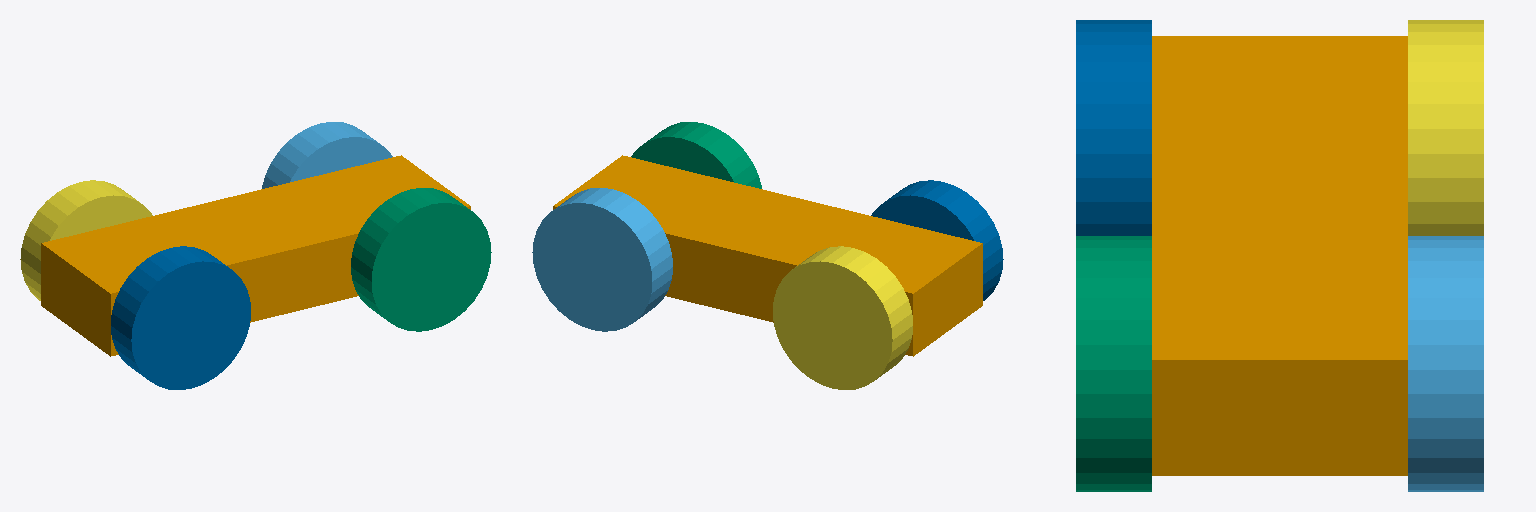
URDF robot description (kinectBot):
<?xml version="1.0"?>
<robot name="kinectBot">

  <!--          -->
  <!--geometries-->
  <!--          -->

  <link name="base_link">
    <visual>
      <geometry>
        <box size="1.5 .5 .25"/>
      </geometry>
      <origin rpy="0 0 0" xyz="0 0 .25"/>
    </visual>
    <collision>
      <geometry>
        <box size="1.5 .5 .25"/>
      </geometry>
    </collision>
    <inertial>
      <mass value="1.875"/>
      <inertia ixx="3.613" ixy="0" ixz="0" iyy="3.906" iyz="0" izz="0.488"/>
    </inertial>
  </link>

  <link name="rightFrontWheel">
    <visual>
      <geometry>
      	<cylinder length=".15" radius=".25"/>
      </geometry>
      <origin rpy="1.5707 0 0" xyz="0 0 0"/>
    </visual>
    <collision>
      <geometry>
        <cylinder length=".15" radius=".25"/>
      </geometry>
    </collision>
 <inertial>
      <mass value="10"/>
      <inertia ixx="0.175" ixy="0" ixz="0" iyy="0.175" iyz="0" izz="0.313"/>
    </inertial>
  </link>

  <link name="leftFrontWheel">
    <visual>
      <geometry>
      	<cylinder length=".15" radius=".25"/>
      </geometry>
      <origin rpy="1.5707 0 0" xyz="0 0 0"/>
    </visual>
    <collision>
      <geometry>
        <cylinder length=".15" radius=".25"/>
      </geometry>
    </collision>
    <inertial>
      <mass value="10"/>
      <inertia ixx="0.175" ixy="0" ixz="0" iyy="0.175" iyz="0" izz="0.313"/>
    </inertial>
  </link>

  <link name="rightRearWheel">
    <visual>
      <geometry>
      	<cylinder length=".15" radius=".25"/>
      </geometry>
      <origin rpy="1.5707 0 0" xyz="0 0 0"/>
    </visual>
    <collision>
      <geometry>
        <cylinder length=".15" radius=".25"/>
      </geometry>
    </collision>
     <inertial>
      <mass value="10"/>
        <inertia ixx="0.175" ixy="0" ixz="0" iyy="0.175" iyz="0" izz="0.313"/>
    </inertial>
  </link>

  <link name="leftRearWheel">
    <visual>
      <geometry>
      	<cylinder length=".15" radius=".25"/>
      </geometry>
      <origin rpy="1.5707 0 0" xyz="0 0 0"/>
    </visual>
    <collision>
      <geometry>
        <cylinder length=".15" radius=".25"/>
      </geometry>
    </collision>
     <inertial>
      <mass value="10"/>
        <inertia ixx="0.175" ixy="0" ixz="0" iyy="0.175" iyz="0" izz="0.313"/>
    </inertial>
  </link>

  <!--      -->
  <!--joints-->
  <!--      -->

  <joint name="rightFrontWheelToBase" type="continuous">
    <parent link="base_link"/>
    <child link="rightFrontWheel"/>
    <axis xyz="0 .325 0"/>
    <origin xyz=".5 .325 .25"/>
  </joint>

  <joint name="leftFrontWheelToBase" type="continuous">
    <parent link="base_link"/>
    <child link="leftFrontWheel"/>
    <axis xyz="0 -.325 0"/>
    <origin xyz=".5 -.325 .25"/>
  </joint>

  <joint name="rightRearWheelToBase" type="continuous">
    <parent link="base_link"/>
    <child link="rightRearWheel"/>
    <axis xyz="0 .325 0"/>
    <origin xyz="-.5 .325 .25"/>
  </joint>

  <joint name="leftRearWheelToBase" type="continuous">
    <parent link="base_link"/>
    <child link="leftRearWheel"/>
    <axis xyz="0 -.325 0"/>
    <origin xyz="-.5 -.325 .25"/>
  </joint>

</robot>

--- What the picture shows (computed from the rendered views, not written in the file) ---
3 views of the same robot in one strip: view 1: azimuth 30°, elevation 25°; view 2: azimuth 150°, elevation 25°; view 3: azimuth 270°, elevation 25° (orthographic).
Robot: kinectBot — 5 links, 4 joints (4 continuous); root link base_link; default pose: every joint at zero.
Links seen in each view (by area): view 1: base_link, leftFrontWheel, leftRearWheel, rightRearWheel, rightFrontWheel; view 2: base_link, rightFrontWheel, rightRearWheel, leftRearWheel, leftFrontWheel; view 3: base_link, rightFrontWheel, leftFrontWheel, rightRearWheel, leftRearWheel.
Link boxes in pixels (x1,y1,x2,y2): base_link: (41,155,470,356); leftFrontWheel: (351,188,491,331); leftRearWheel: (111,246,250,389); rightRearWheel: (20,180,152,300); rightFrontWheel: (262,122,392,188); base_link: (553,155,982,356); rightFrontWheel: (532,188,672,331); rightRearWheel: (773,246,912,389); leftRearWheel: (871,180,1003,300); leftFrontWheel: (631,122,761,188); base_link: (1152,36,1407,475); rightFrontWheel: (1408,236,1483,491); leftFrontWheel: (1076,236,1151,491); rightRearWheel: (1408,20,1483,235); leftRearWheel: (1076,20,1151,235).
Size in the robot's own frame: 1.5 by 0.8 by 0.5 metres.
Geometry: primitives only (box / cylinder / sphere), no mesh files.